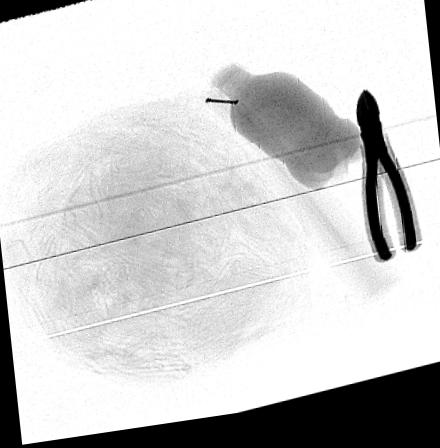Pliers: (353, 98, 417, 276)
